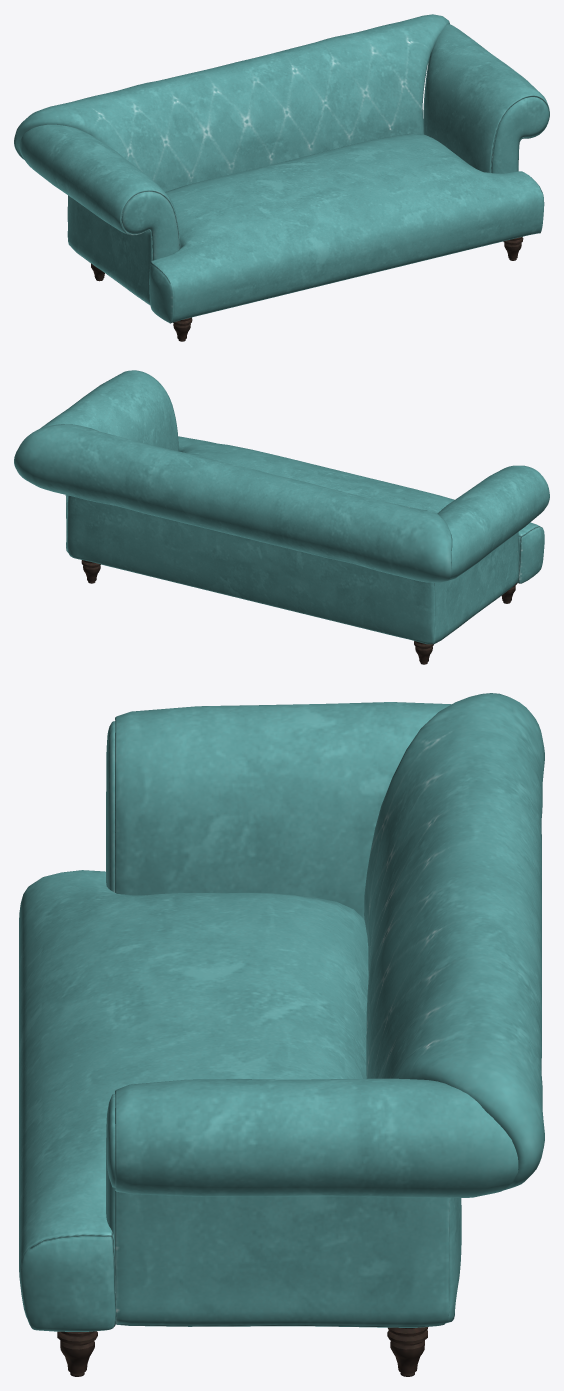
File: CCBake.glb
The picture shows the model from 3 angles, top to bottom: view 1: azimuth 30°, elevation 25°; view 2: azimuth 150°, elevation 25°; view 3: azimuth 270°, elevation 25°; orthographic projection. The views are drawn at different scales.
Parts seen in each view (by area): view 1: GBF000013_02_Cushion; view 2: GBF000013_02_Cushion; view 3: GBF000013_02_Cushion.
Boxes of the visible parts, x1,y1,x2,y2 form: GBF000013_02_Cushion: (14, 14, 549, 341); GBF000013_02_Cushion: (14, 370, 549, 664); GBF000013_02_Cushion: (19, 693, 544, 1376).
Size of the model in its own units: 2.32 by 0.8299 by 1.2.
1 material, 1 textured.
